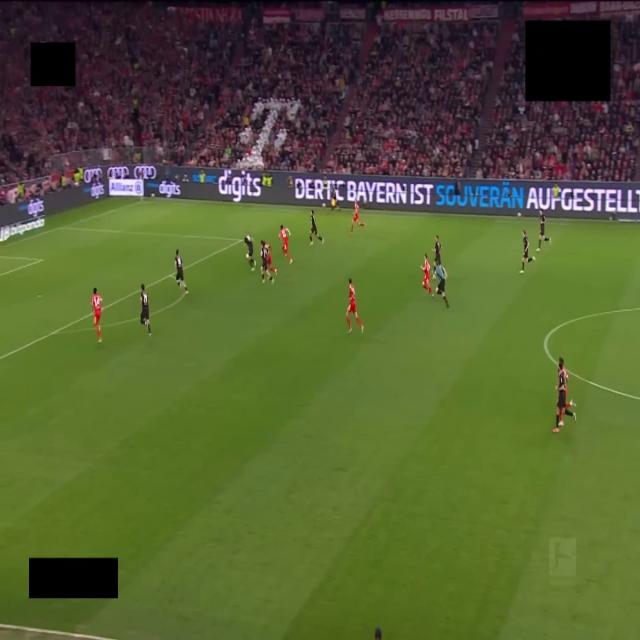ball: (246, 254, 248, 258)
player: (553, 359, 566, 432), (346, 279, 363, 332), (520, 230, 535, 273), (175, 249, 188, 295), (536, 210, 550, 251), (140, 284, 151, 336), (261, 240, 274, 284), (92, 288, 102, 343), (421, 254, 433, 297), (279, 225, 292, 263), (351, 201, 365, 235), (310, 209, 323, 245), (244, 233, 256, 271), (559, 358, 569, 397), (265, 243, 277, 275), (434, 235, 441, 273)
referee: (435, 262, 449, 307)
